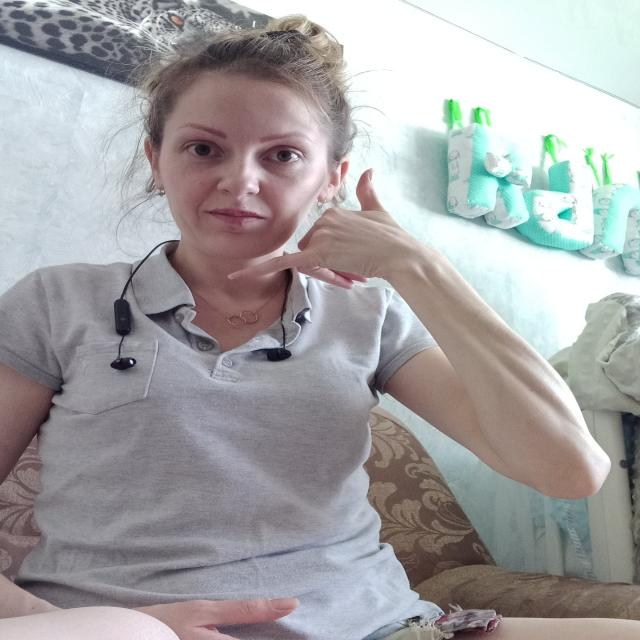call: (226, 168, 412, 290)
